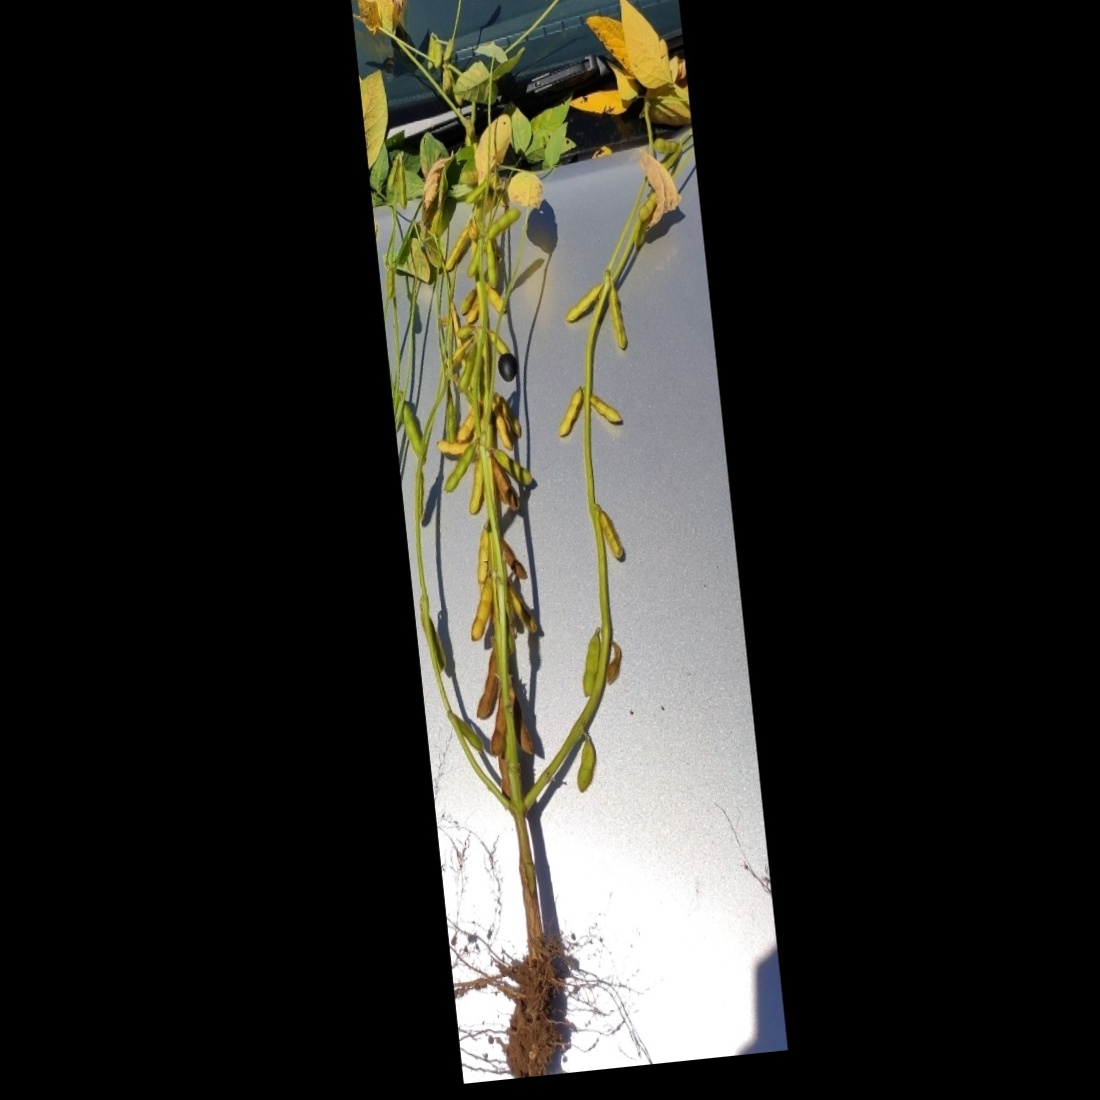pod: (437, 433, 488, 495), (469, 641, 506, 722), (559, 277, 612, 325), (574, 628, 605, 698), (491, 442, 537, 490), (466, 576, 498, 641), (438, 221, 474, 275), (605, 280, 632, 353), (552, 382, 588, 434), (485, 685, 510, 760), (597, 504, 627, 566), (571, 735, 600, 796), (453, 339, 483, 397), (463, 456, 489, 518), (453, 707, 485, 757), (482, 205, 525, 241), (400, 401, 424, 458), (471, 523, 493, 588), (489, 398, 513, 453), (589, 392, 623, 428), (453, 405, 483, 444), (394, 163, 413, 212), (482, 240, 500, 290), (651, 131, 681, 159), (633, 195, 661, 224), (383, 266, 395, 303)
soy: (350, 0, 769, 1051)
